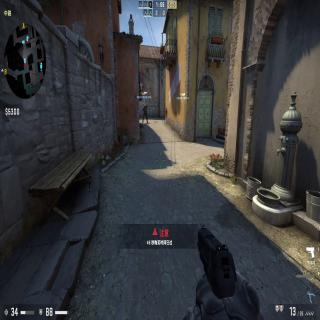CT-Body: (142, 102, 148, 124)
